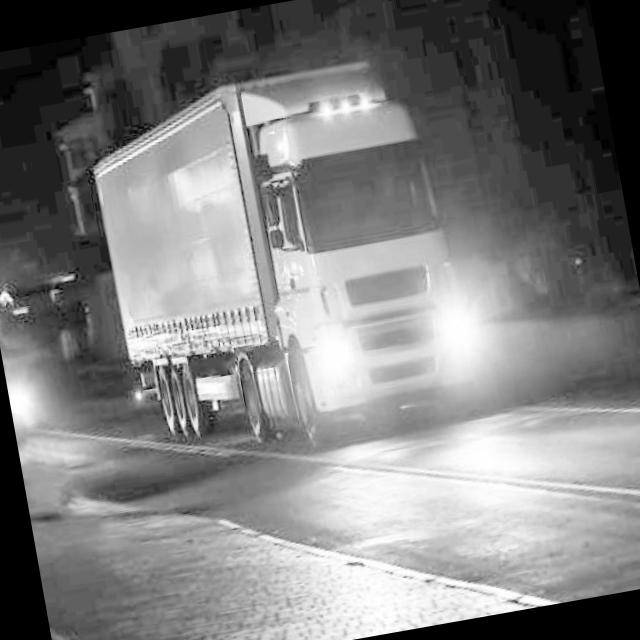Truck: (78, 46, 490, 479)
